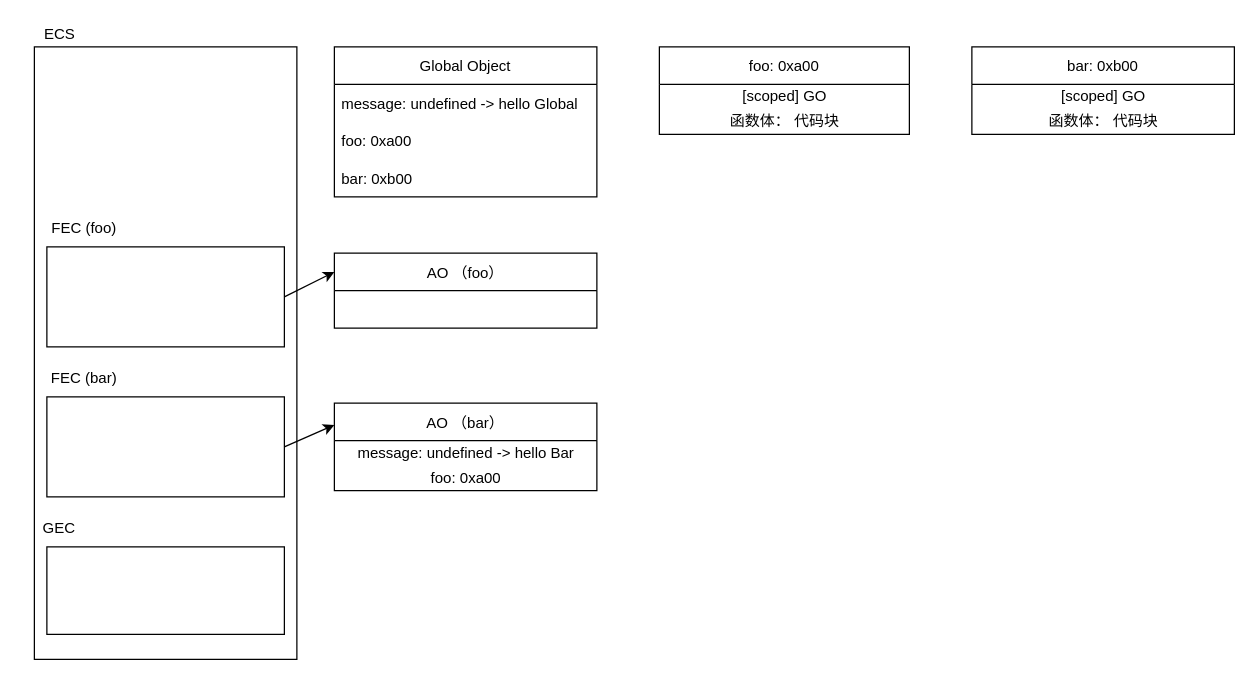
Some shapes in this 1256 by 681 pixel diagram are drawn without their labels. The shapes that lost their labels are listed below. From the top down, each one's centre as x and y in pixels, then its label:
point (165, 296): VO: AO scoped: VO + parentScoped ( GO) 执行过程 console.log("hello Global ")
point (165, 446): VO: AO scoped: VO 执行过程
point (165, 590): VO: GO scoped: VO 执行过程
